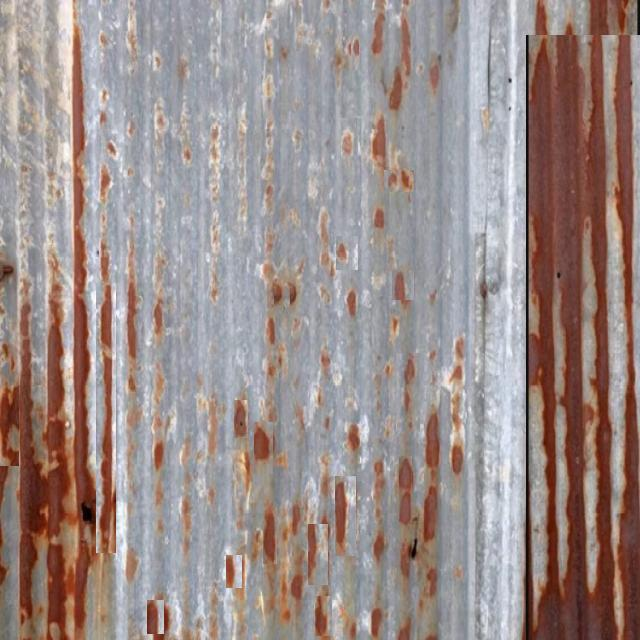Corrosion: (529, 35, 608, 640), (46, 29, 96, 640)
